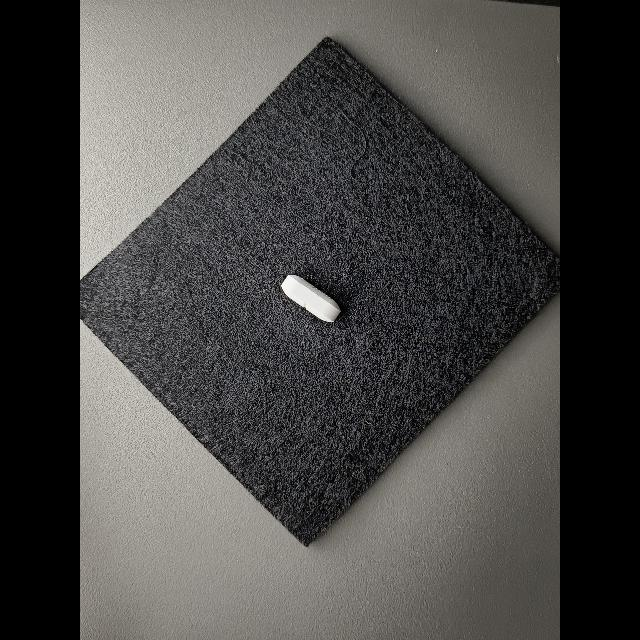Intact Pill: (281, 275, 341, 322)
